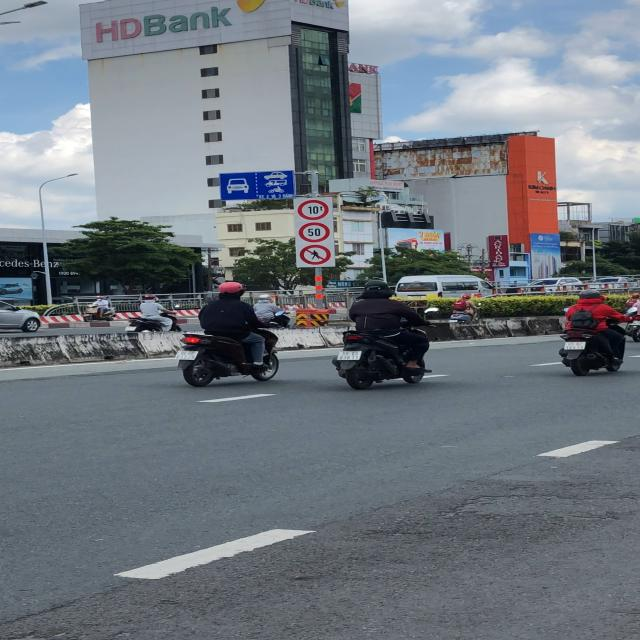Bien bao cam nguoi di bo: (299, 244, 333, 265)
Bien bao toc do toi da cho phep: (299, 221, 332, 244)
